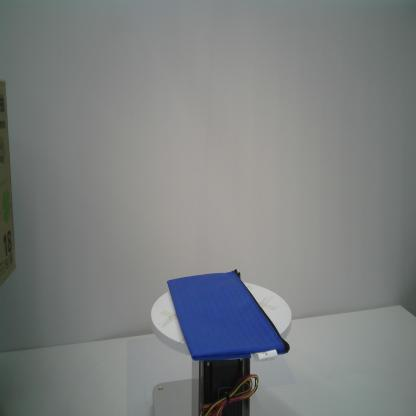Stationery: (167, 269, 292, 365)
